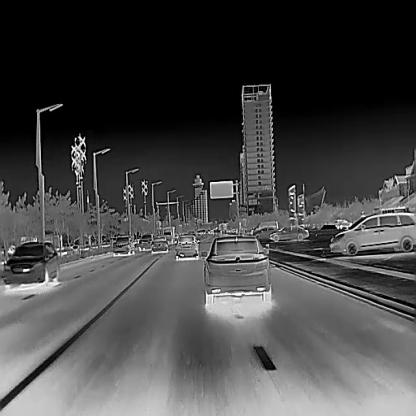car: (200, 235, 271, 306), (329, 212, 415, 254), (3, 241, 58, 285), (174, 234, 200, 262), (269, 224, 309, 242), (112, 235, 134, 254), (151, 234, 168, 253), (252, 226, 278, 238), (138, 233, 153, 251), (334, 219, 352, 229)
truck: (162, 226, 173, 243)
